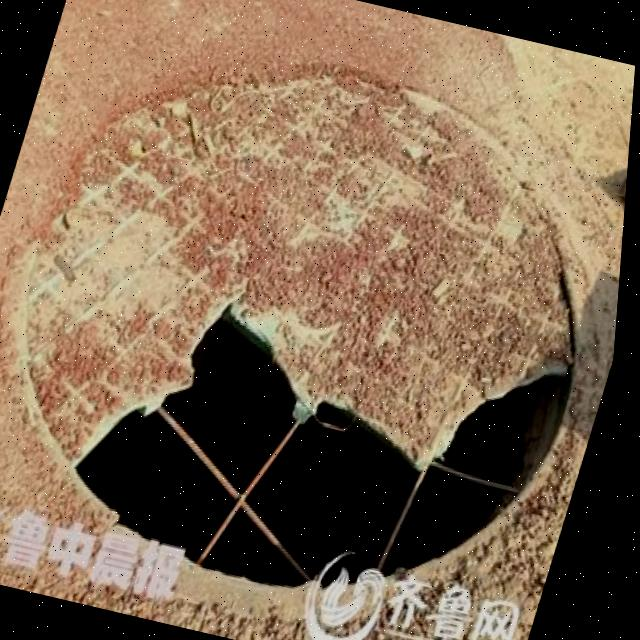manhole: (0, 7, 640, 640)
